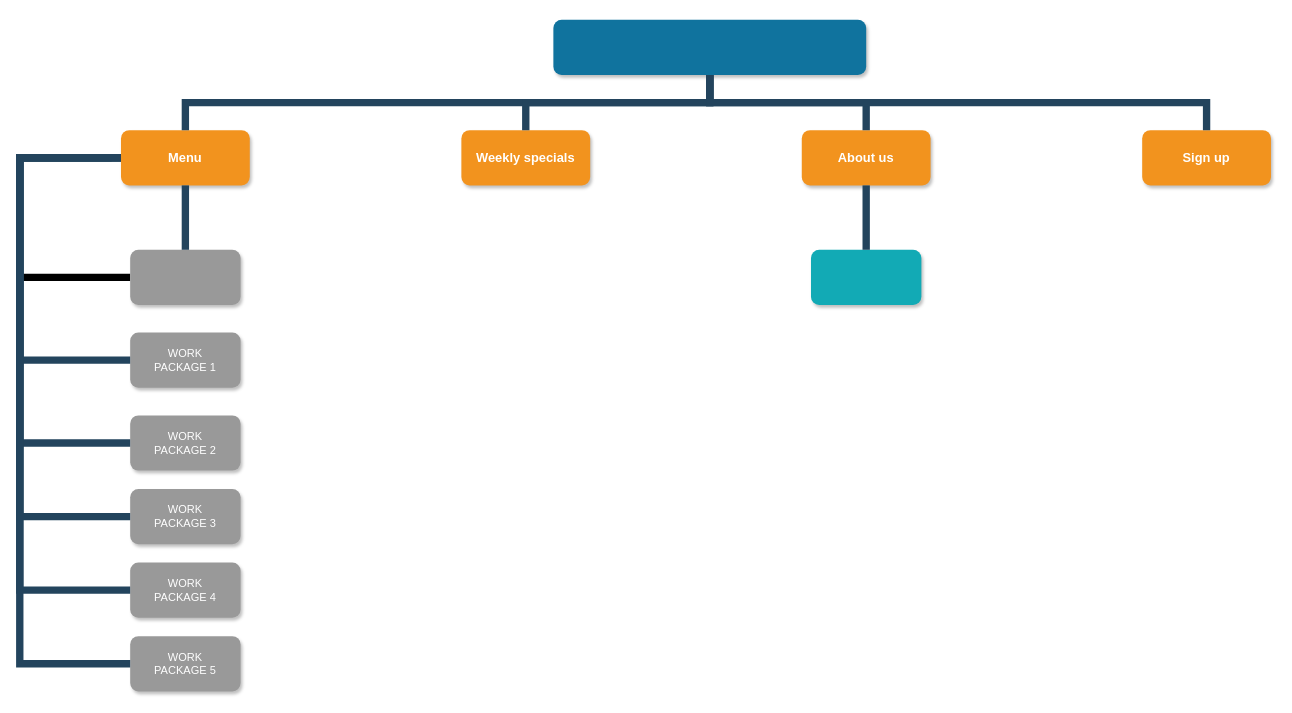
The diagram is 1292 pixels wide and 713 high, and some of its shapes have lost their labels. Here are the shapes that lost their labels. From the top down, the centre of each, then its label:
point 710,48: Home
point 186,278: SUB-TASK 1
point 866,278: Introduction
